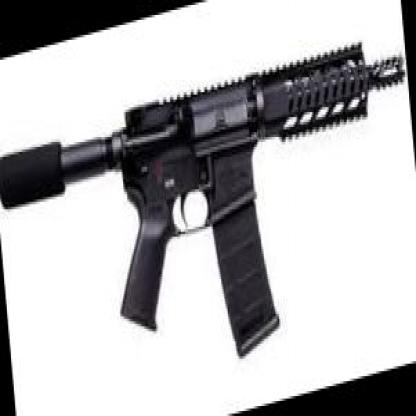rifle: (0, 30, 416, 416)
